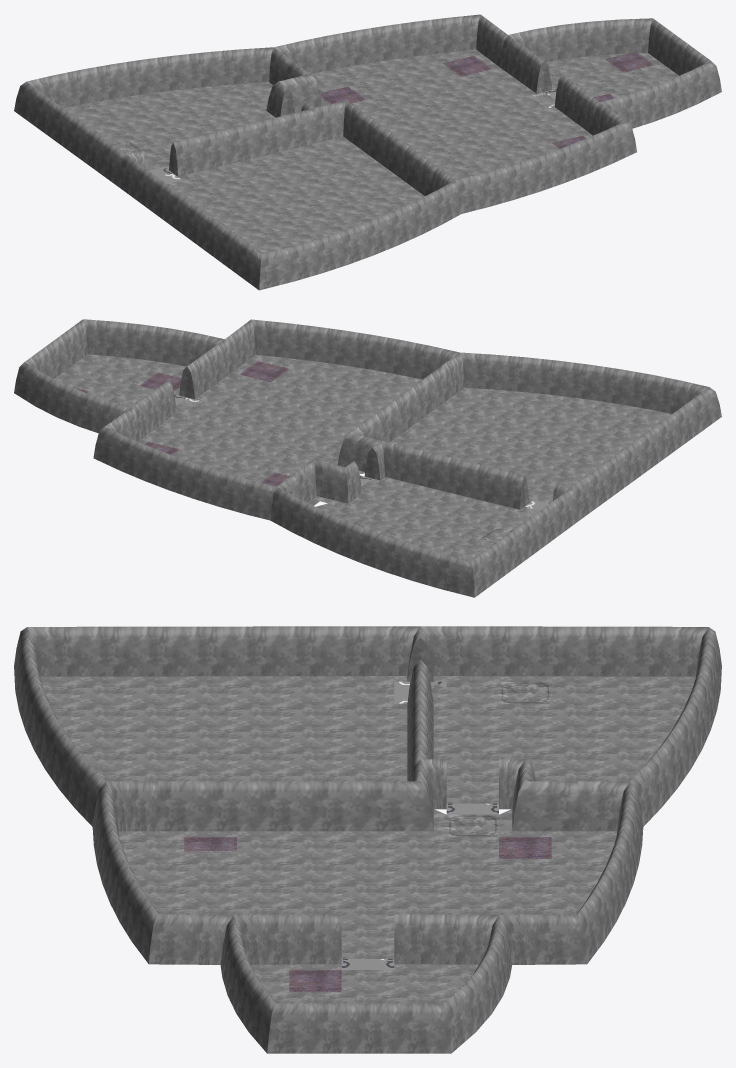
File: level_2.gltf
3 renders of one model, top to bottom at view 1: azimuth 30°, elevation 25°; view 2: azimuth 150°, elevation 25°; view 3: azimuth 270°, elevation 25°, orthographic. The views are drawn at different scales.
Visible parts, largest first — view 1: Mesh_4, Mesh_2, Mesh_3, Mesh_1, Mesh_11, Mesh_5, Mesh_49, Mesh_37, Mesh_7, Mesh_57, Mesh_45, Mesh_9 (+17 smaller); view 2: Mesh_4, Mesh_1, Mesh_3, Mesh_5, Mesh_11, Mesh_2, Mesh_37, Mesh_49, Mesh_7, Mesh_57, Mesh_41, Mesh_9 (+18 smaller); view 3: Mesh_4, Mesh_3, Mesh_1, Mesh_7, Mesh_2, Mesh_31, Mesh_9, Mesh_43, Mesh_5, Mesh_11, Mesh_0, Mesh_54 (+23 smaller).
Part boxes in pixels (x1=…): Mesh_4: x1=167, y1=141, x2=418, y2=254; Mesh_2: x1=314, y1=54, x2=554, y2=126; Mesh_3: x1=68, y1=86, x2=270, y2=176; Mesh_1: x1=383, y1=107, x2=582, y2=179; Mesh_11: x1=26, y1=47, x2=273, y2=108; Mesh_5: x1=259, y1=180, x2=461, y2=290; Mesh_49: x1=274, y1=14, x2=480, y2=73; Mesh_37: x1=455, y1=121, x2=636, y2=213; Mesh_7: x1=118, y1=154, x2=262, y2=289; Mesh_57: x1=169, y1=108, x2=319, y2=176; Mesh_45: x1=508, y1=18, x2=652, y2=62; Mesh_9: x1=14, y1=81, x2=125, y2=186; Mesh_4: x1=398, y1=392, x2=667, y2=503; Mesh_1: x1=192, y1=359, x2=417, y2=458; Mesh_3: x1=316, y1=478, x2=538, y2=561; Mesh_5: x1=460, y1=352, x2=708, y2=413; Mesh_11: x1=270, y1=487, x2=474, y2=597; Mesh_2: x1=149, y1=399, x2=335, y2=482; Mesh_37: x1=251, y1=319, x2=459, y2=379; Mesh_49: x1=93, y1=427, x2=276, y2=520; Mesh_7: x1=572, y1=387, x2=721, y2=519; Mesh_57: x1=382, y1=441, x2=528, y2=509; Mesh_41: x1=83, y1=319, x2=224, y2=366; Mesh_9: x1=471, y1=487, x2=579, y2=597; Mesh_4: x1=53, y1=676, x2=407, y2=781; Mesh_3: x1=430, y1=681, x2=682, y2=803; Mesh_1: x1=127, y1=836, x2=413, y2=958; Mesh_7: x1=27, y1=626, x2=419, y2=676; Mesh_2: x1=342, y1=836, x2=603, y2=958; Mesh_31: x1=158, y1=781, x2=433, y2=831; Mesh_9: x1=421, y1=626, x2=708, y2=676; Mesh_43: x1=267, y1=1003, x2=451, y2=1053; Mesh_5: x1=14, y1=627, x2=105, y2=826; Mesh_11: x1=630, y1=627, x2=721, y2=826; Mesh_0: x1=260, y1=969, x2=474, y2=1003; Mesh_54: x1=234, y1=914, x2=341, y2=964.
Size of the model in its own units: 28.45 by 1.55 by 21.95.
7 materials, 7 textured.
